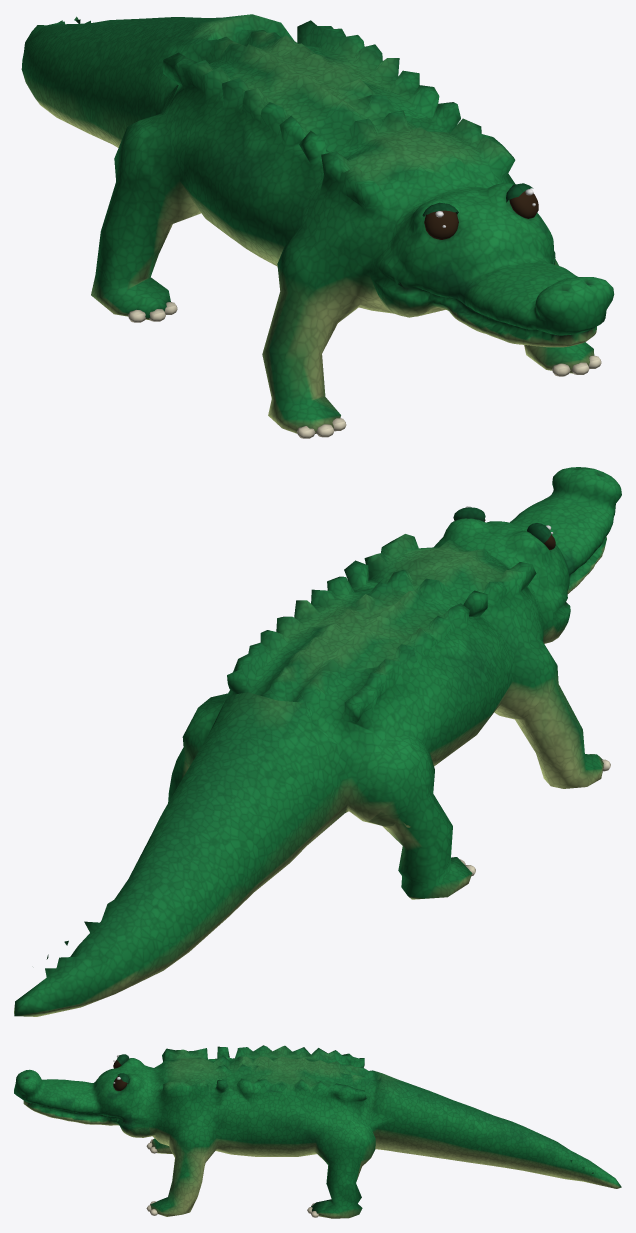
The model's file is croc.fbx.
3 renders of one model, top to bottom at view 1: azimuth 30°, elevation 25°; view 2: azimuth 150°, elevation 25°; view 3: azimuth 270°, elevation 25°, orthographic. The views are drawn at different scales.
Visible parts, largest first — view 1: Croc_Body, Croc_Eyes; view 2: Croc_Body; view 3: Croc_Body.
Part boxes in pixels (x1,y1,x2,y2): Croc_Body: (21, 14, 614, 438); Croc_Eyes: (424, 191, 538, 239); Croc_Body: (14, 467, 621, 1016); Croc_Body: (14, 1045, 621, 1218).
Size of the model in its own units: 2.46 by 1.75 by 7.9.
2 materials, 1 textured.
